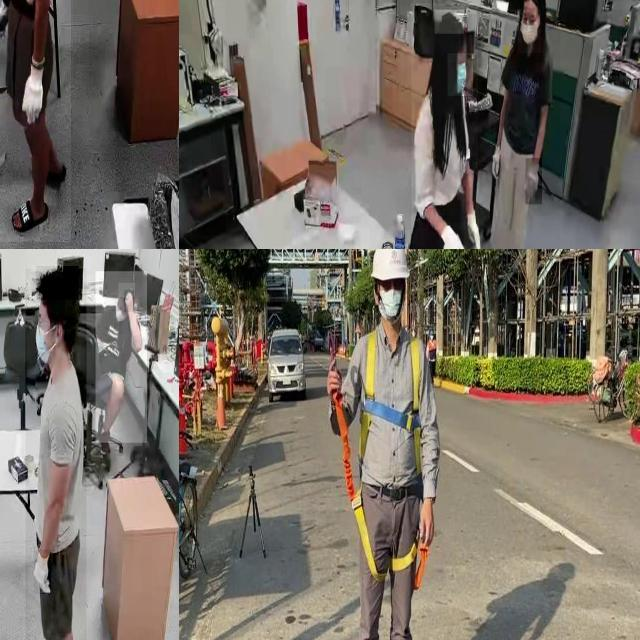Harness: (332, 395, 429, 590), (361, 330, 423, 476)
face_mask: (26, 323, 54, 374), (447, 53, 473, 96), (517, 10, 541, 53)
hand_glove: (16, 50, 50, 131), (463, 205, 485, 249), (34, 549, 52, 595), (526, 158, 542, 205), (439, 223, 466, 249), (492, 139, 504, 189), (0, 0, 11, 48)
hand_noglove: (124, 290, 134, 313)
head_nohelmet: (36, 266, 79, 300), (434, 10, 464, 34), (118, 283, 136, 298), (519, 0, 546, 5)
person: (25, 268, 86, 640), (0, 0, 71, 243), (491, 0, 560, 249), (411, 3, 478, 249), (96, 271, 148, 444)
